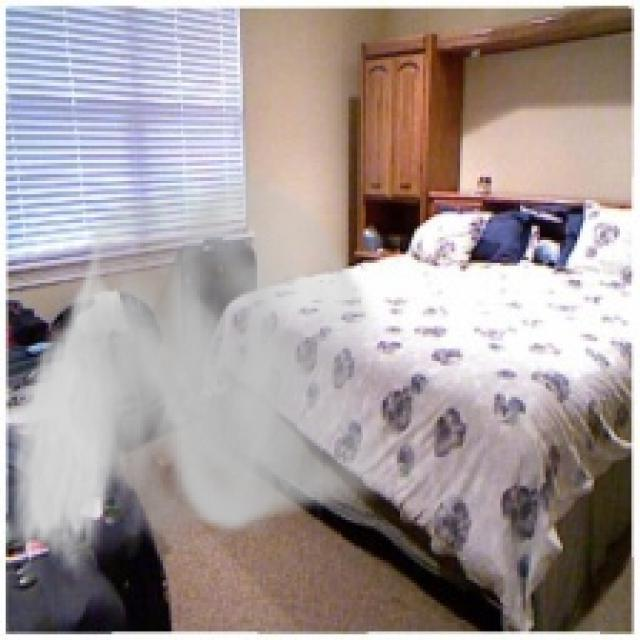Smoke: (2, 160, 388, 580)
